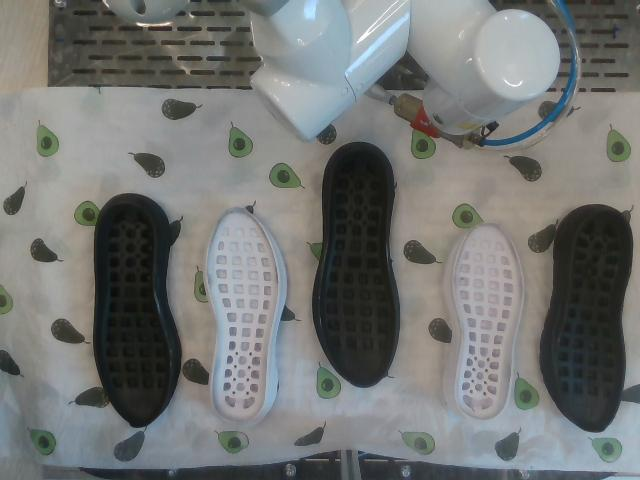shoes: (320, 151, 395, 386), (95, 204, 170, 427), (557, 210, 631, 430), (207, 208, 278, 423), (455, 223, 523, 420)
